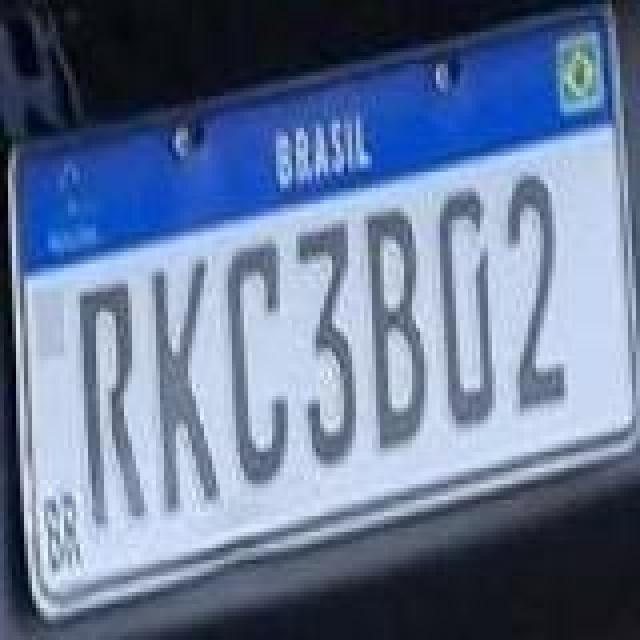2: (506, 178, 566, 414)
3: (296, 220, 360, 468)
B: (364, 204, 428, 452)
C: (224, 240, 288, 488)
D: (434, 190, 494, 434)
K: (148, 258, 220, 518)
R: (78, 280, 146, 528)
